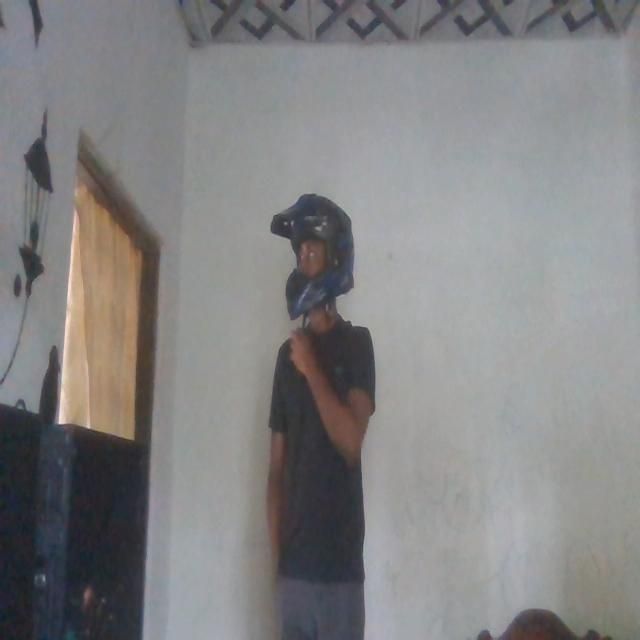Helmet_Wearer: (273, 184, 357, 335)
Person: (262, 179, 384, 633)
